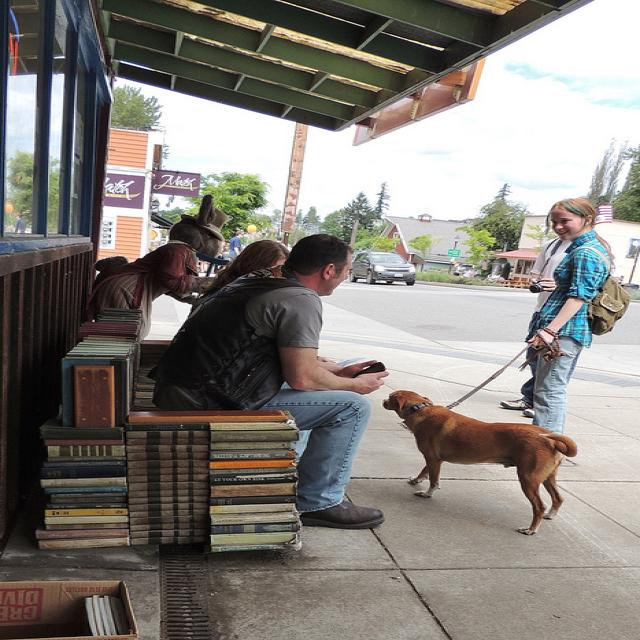Vehicle: (350, 251, 418, 285)
